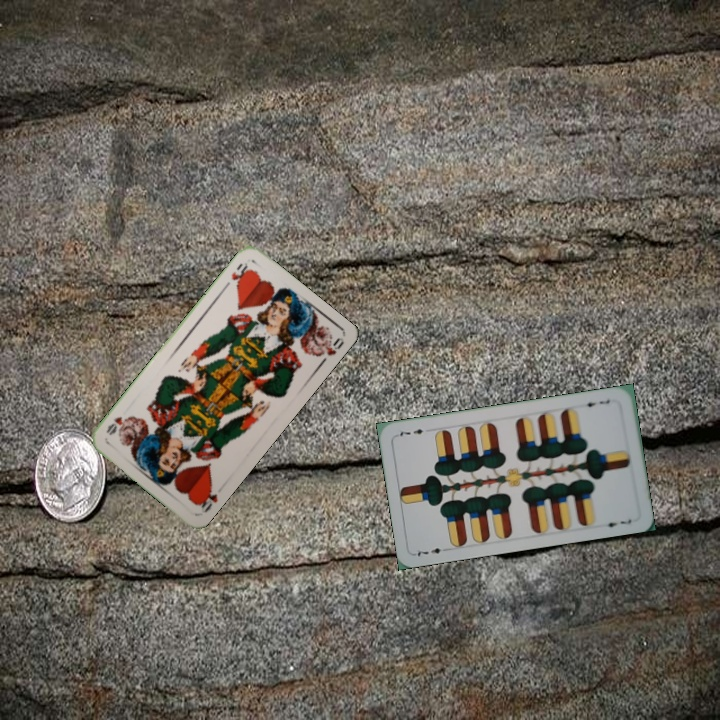E7: (411, 544, 452, 558), (579, 395, 613, 409)
HO: (220, 258, 253, 292), (193, 483, 220, 515)
